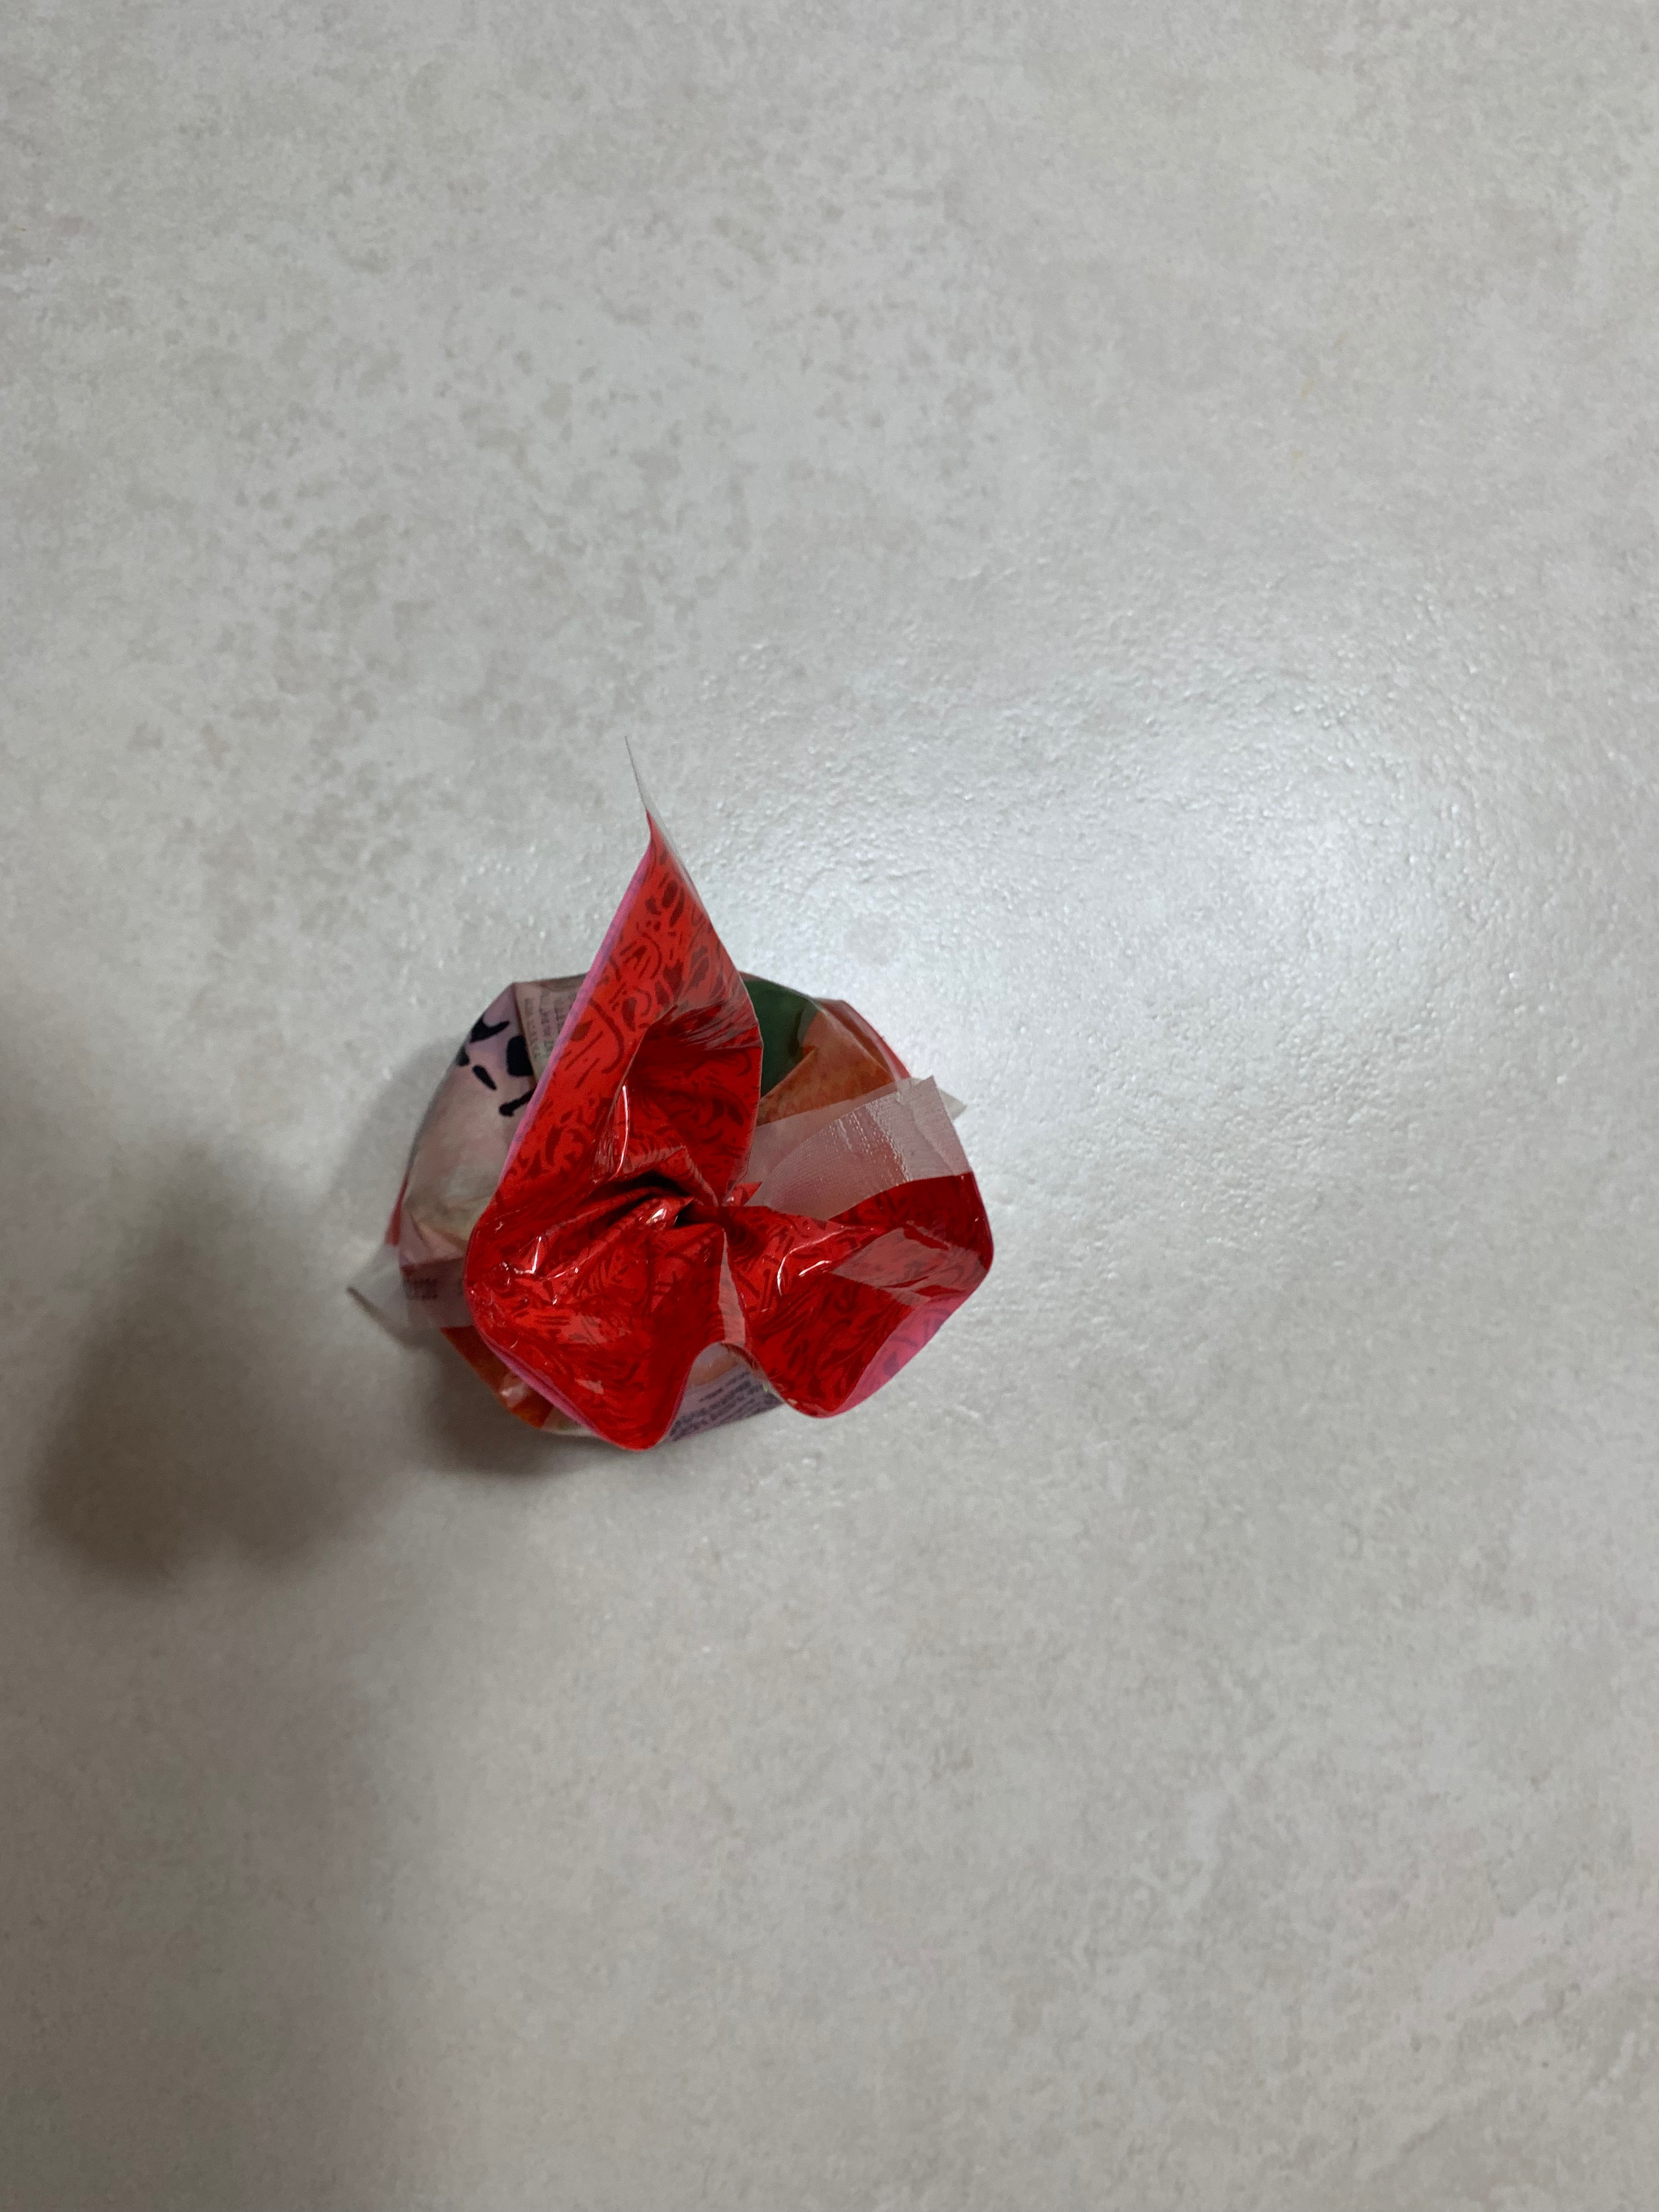kimchi: (343, 812, 993, 1451)
